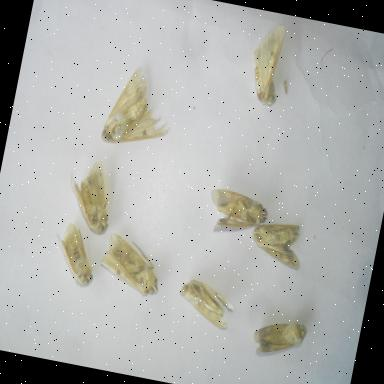abw: (96, 57, 184, 158), (56, 152, 123, 240), (98, 227, 172, 304), (238, 14, 294, 111), (170, 272, 244, 336), (201, 182, 274, 246), (243, 214, 313, 274), (50, 219, 108, 291), (246, 308, 314, 368)
